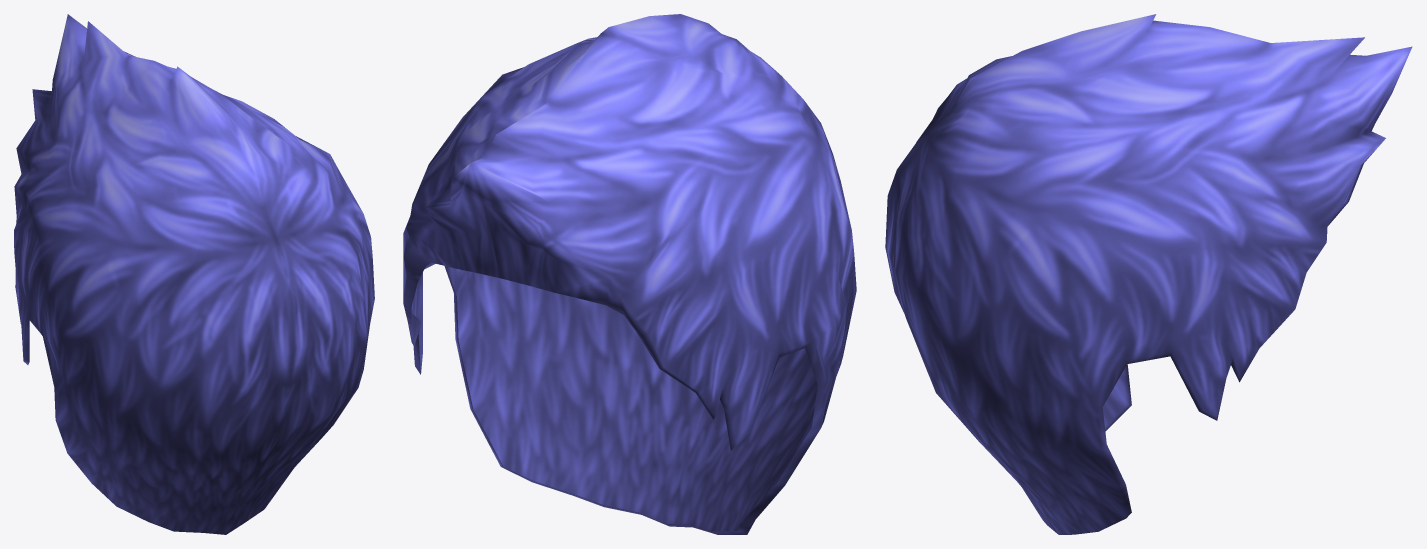
File: Hair_Male_005_textured_sky.glb
3 renders of one model, left to right at view 1: azimuth 30°, elevation 25°; view 2: azimuth 150°, elevation 25°; view 3: azimuth 270°, elevation 25°, orthographic. The views are drawn at different scales.
Parts seen in each view (by area): view 1: Hair_Male_005; view 2: Hair_Male_005; view 3: Hair_Male_005.
Part boxes in pixels (<box>): Hair_Male_005: <box>14,14,374,534</box>; Hair_Male_005: <box>403,14,856,534</box>; Hair_Male_005: <box>885,14,1412,534</box>.
Bounding box in the file's own units: 0.1845 × 0.2501 × 0.2361.
1 material, 1 textured.
